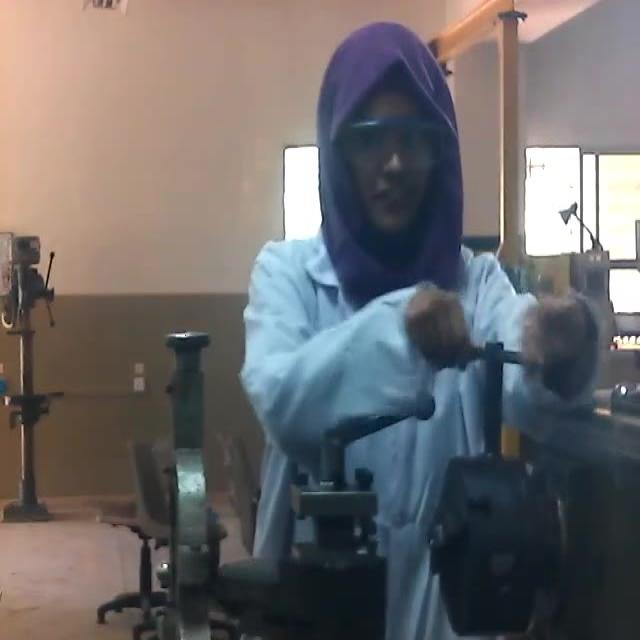googles: (344, 108, 445, 174)
labcoat: (240, 217, 611, 640)
